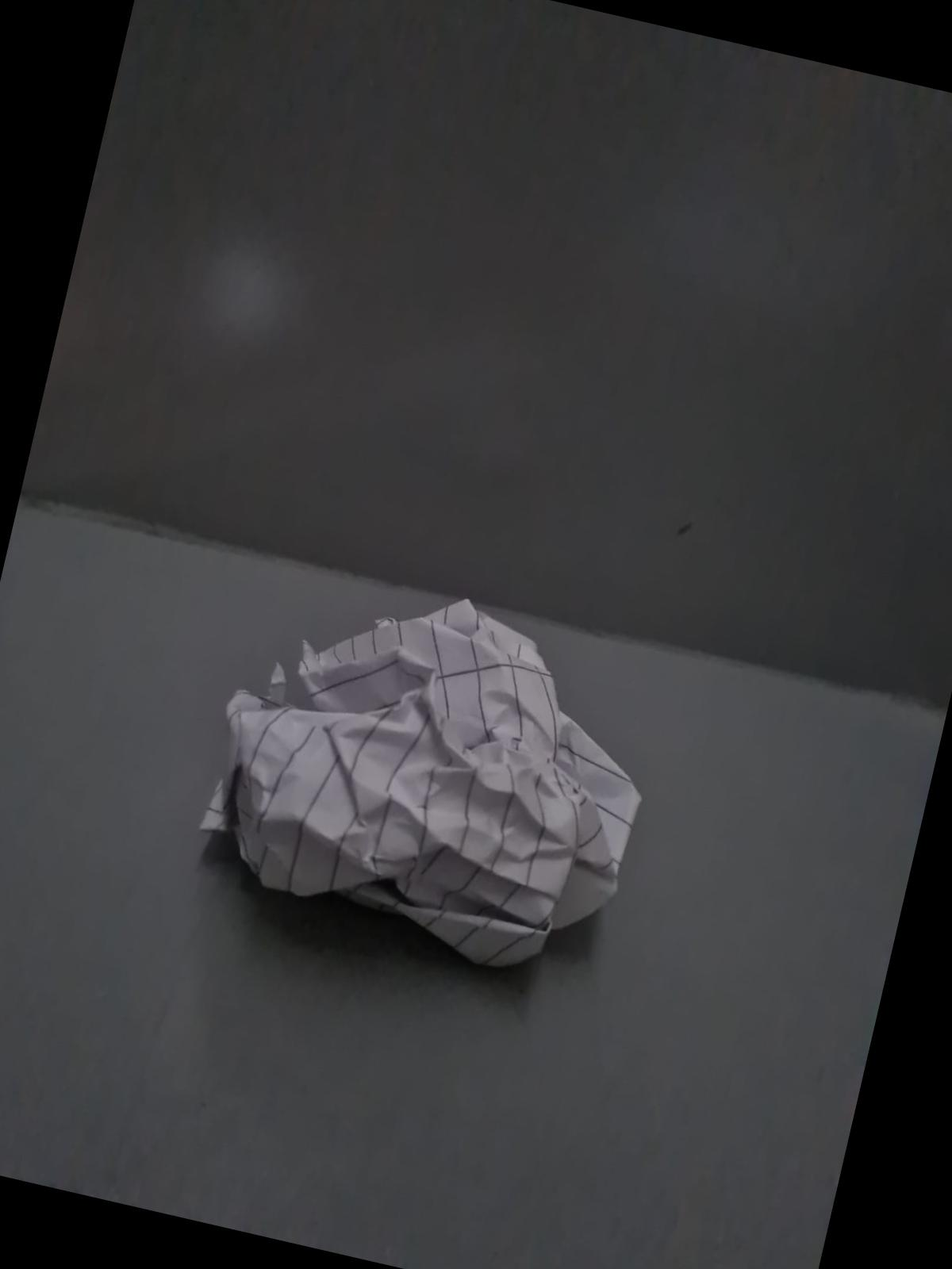Kertas: (222, 604, 644, 977)
